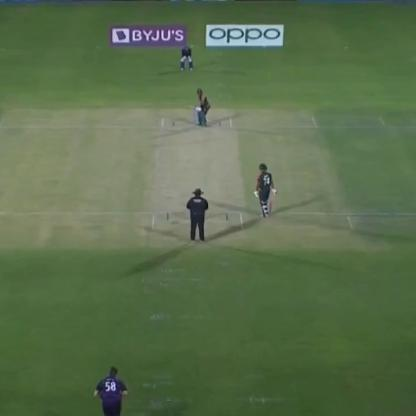pitch: (150, 110, 248, 252)
